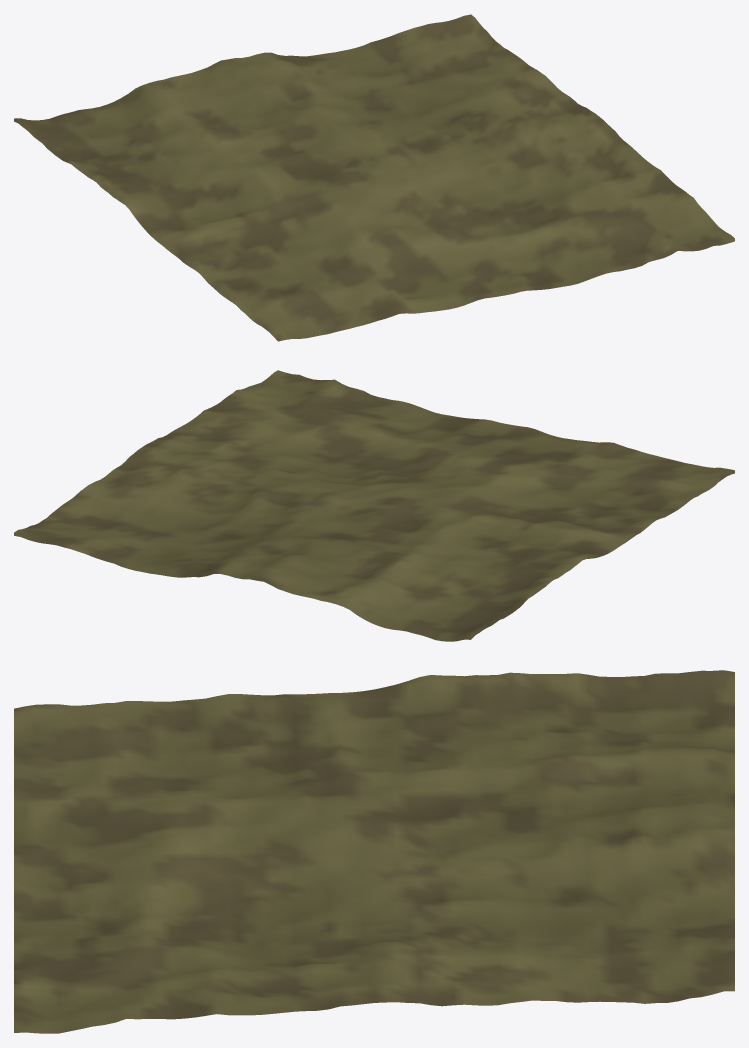
File: land_f_04_02.glb
3 views of the same model, one above another, from view 1: azimuth 30°, elevation 25°; view 2: azimuth 150°, elevation 25°; view 3: azimuth 270°, elevation 25° (orthographic). The views are drawn at different scales.
Visible parts, largest first — view 1: land_f_04_02; view 2: land_f_04_02; view 3: land_f_04_02.
Boxes of the visible parts, bbox=[...] form: land_f_04_02: bbox=[14, 14, 734, 341]; land_f_04_02: bbox=[14, 370, 734, 641]; land_f_04_02: bbox=[14, 670, 734, 1033].
Bounding box in the file's own units: 3840 × 424 × 3840.
